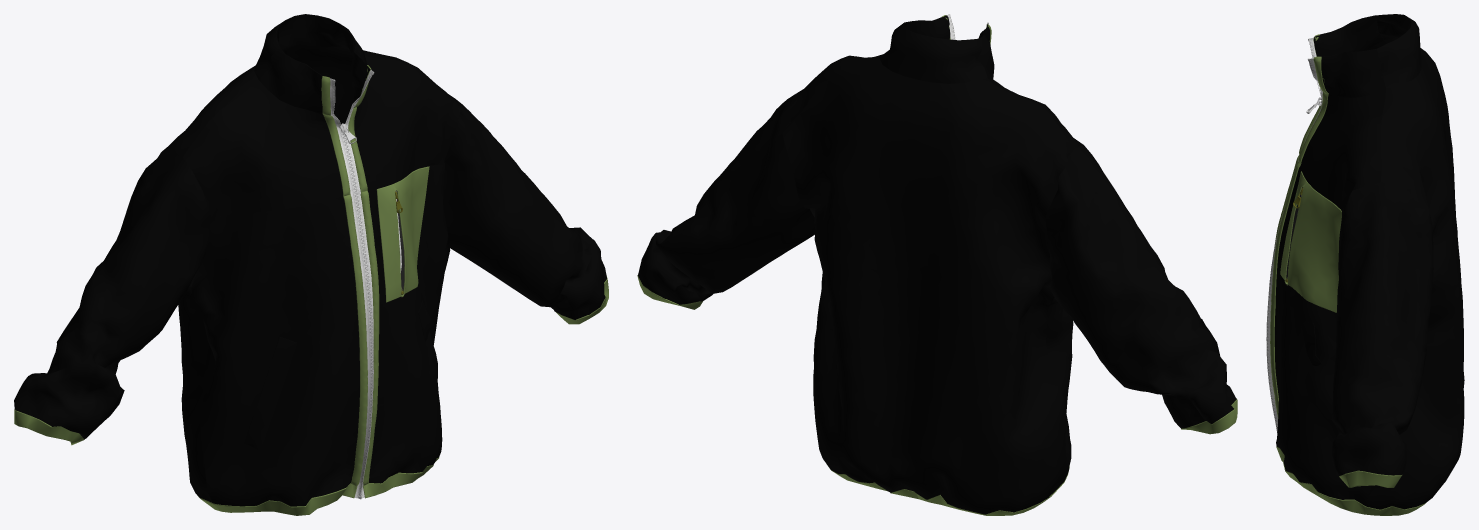
The model's file is oversize-teddy-fleece.glb.
3 renders of one model, left to right at view 1: azimuth 30°, elevation 25°; view 2: azimuth 150°, elevation 25°; view 3: azimuth 270°, elevation 25°, orthographic. The views are drawn at different scales.
Parts seen in each view (by area): view 1: Pattern_5676594_Node, Pattern_5677567_Node, Pattern_5677566_Node, Pattern_5676597_Node, Pattern_5676593_Node, Pattern_5676596_Node, Pattern_5677133_Node, Pattern_6877485_Node, Pattern_6760092_Node, BindingPattern_6974116_Node, Pattern_6760096_Node, Pattern_6951127_Node (+11 smaller); view 2: Pattern_5677133_Node, Pattern_5677567_Node, Pattern_5677566_Node, Pattern_6760093_Node, Pattern_5676594_Node, Pattern_6760097_Node; view 3: Pattern_5677566_Node, Pattern_5677133_Node, Pattern_5676597_Node, Pattern_5676596_Node, Pattern_6877485_Node, Pattern_6760094_Node, Pattern_6760093_Node, Pattern_6760095_Node, BindingPattern_6974176_Node, Pattern_6789882_Node, Pattern_6760096_Node, Pattern_6791616_Node (+5 smaller).
Boxes of the visible parts, box(x1,y1,x2,y2) form: Pattern_5676594_Node: box(191, 196, 359, 506); Pattern_5677567_Node: box(14, 152, 210, 439); Pattern_5677566_Node: box(443, 94, 606, 319); Pattern_5676597_Node: box(367, 165, 450, 483); Pattern_5676593_Node: box(183, 80, 342, 223); Pattern_5676596_Node: box(354, 56, 460, 190); Pattern_5677133_Node: box(162, 46, 406, 502); Pattern_6877485_Node: box(376, 166, 429, 302); Pattern_6760092_Node: box(259, 48, 322, 113); BindingPattern_6974116_Node: box(343, 195, 367, 486); Pattern_6760096_Node: box(276, 14, 351, 54); Pattern_6951127_Node: box(244, 337, 296, 450); Pattern_5677133_Node: box(782, 54, 1074, 514); Pattern_5677567_Node: box(1045, 145, 1236, 428); Pattern_5677566_Node: box(638, 89, 815, 304); Pattern_6760093_Node: box(879, 22, 987, 83); Pattern_5676594_Node: box(1046, 296, 1073, 479); Pattern_6760097_Node: box(903, 15, 950, 39); Pattern_5677566_Node: box(1331, 182, 1433, 475); Pattern_5677133_Node: box(1366, 37, 1464, 509); Pattern_5676597_Node: box(1274, 165, 1370, 506); Pattern_5676596_Node: box(1301, 89, 1385, 214); Pattern_6877485_Node: box(1280, 171, 1341, 312); Pattern_6760094_Node: box(1321, 48, 1385, 97); Pattern_6760093_Node: box(1375, 14, 1421, 88); Pattern_6760095_Node: box(1314, 16, 1383, 56); BindingPattern_6974176_Node: box(1270, 162, 1300, 418); Pattern_6789882_Node: box(1339, 470, 1402, 487); Pattern_6760096_Node: box(1374, 14, 1411, 44); Pattern_6791616_Node: box(1276, 446, 1365, 514).
Size of the model in its own units: 0.8573 by 0.6372 by 0.2543.
23 materials, 20 textured.
